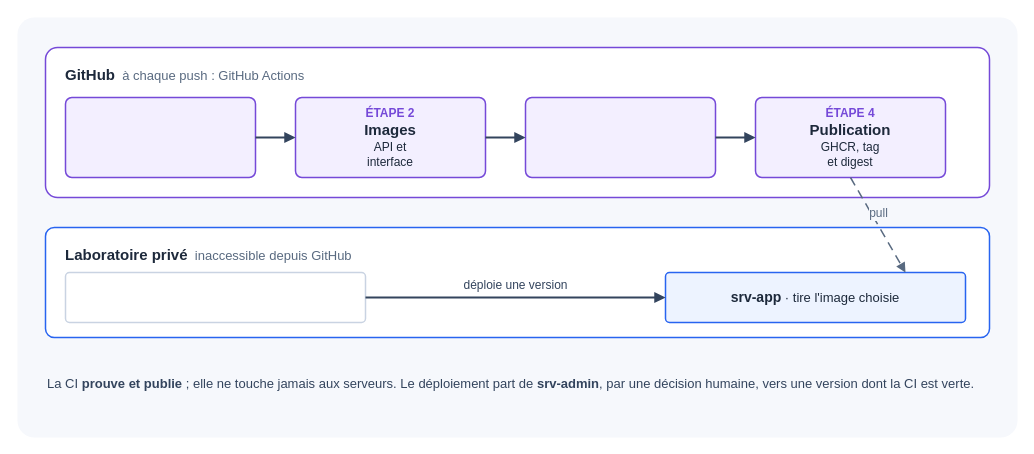
This 1034x454 diagram has some shape labels left out. The shapes that lost their labels are listed below. From the top down, each one's centre as x and y in pixels, then its label:
At [160,137]: "ÉTAPE 1 Tests pytest sur PostgreSQL".
At [620,137]: "ÉTAPE 3 Analyse Trivy : vulnérabilités".
At [215,297]: "srv-admin · tu lances Ansible".
